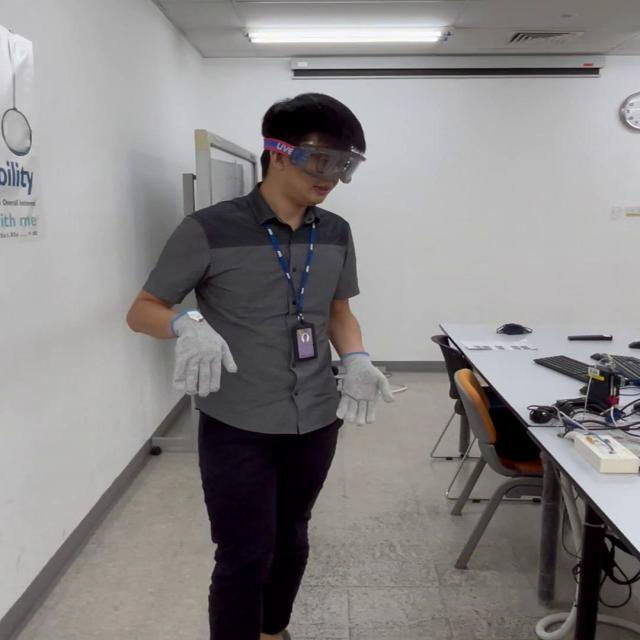gloved_hand: (160, 309, 233, 398), (336, 354, 390, 424)
